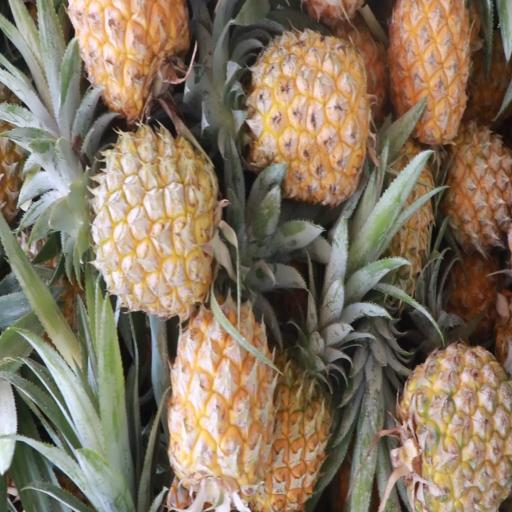------------------------------: (395, 343, 512, 512)
Pineapple - v8 v1: (78, 124, 216, 327), (166, 270, 276, 512), (228, 32, 372, 205), (260, 272, 336, 512), (387, 0, 474, 148), (431, 121, 512, 264)
